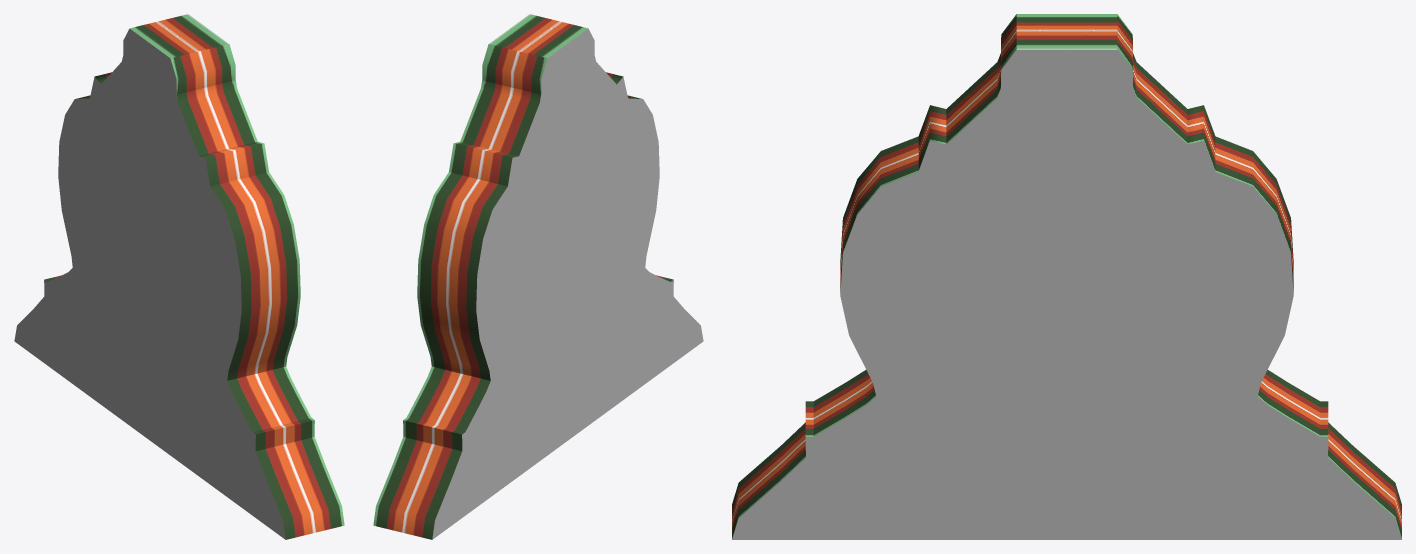
File: SM_R_DancheongSupport_2.fbx
The picture shows the model from 3 angles, left to right: view 1: azimuth 30°, elevation 25°; view 2: azimuth 150°, elevation 25°; view 3: azimuth 270°, elevation 25°; orthographic projection. The views are drawn at different scales.
Parts seen in each view (by area): view 1: SM_R_DancheongSupport_2_LOD0; view 2: SM_R_DancheongSupport_2_LOD0; view 3: SM_R_DancheongSupport_2_LOD0.
Part boxes in pixels (<box>): SM_R_DancheongSupport_2_LOD0: <box>14,14,344,539</box>; SM_R_DancheongSupport_2_LOD0: <box>373,14,703,539</box>; SM_R_DancheongSupport_2_LOD0: <box>732,14,1401,539</box>.
Bounding box in the file's own units: 14.34 × 114 × 92.26.
